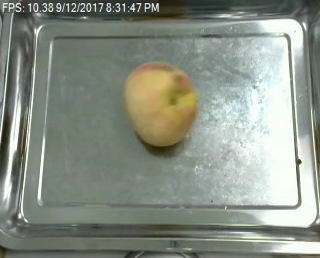Peach: (122, 60, 198, 147)
